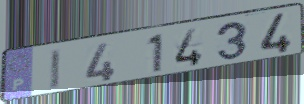1: (145, 31, 165, 74)
3: (213, 20, 253, 62)
4: (258, 10, 295, 55), (83, 40, 118, 83), (172, 27, 204, 68)
I: (48, 47, 63, 93)
